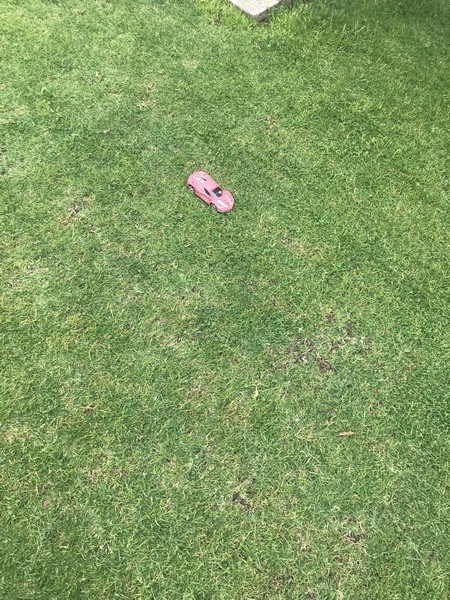RC: (186, 169, 237, 214)
